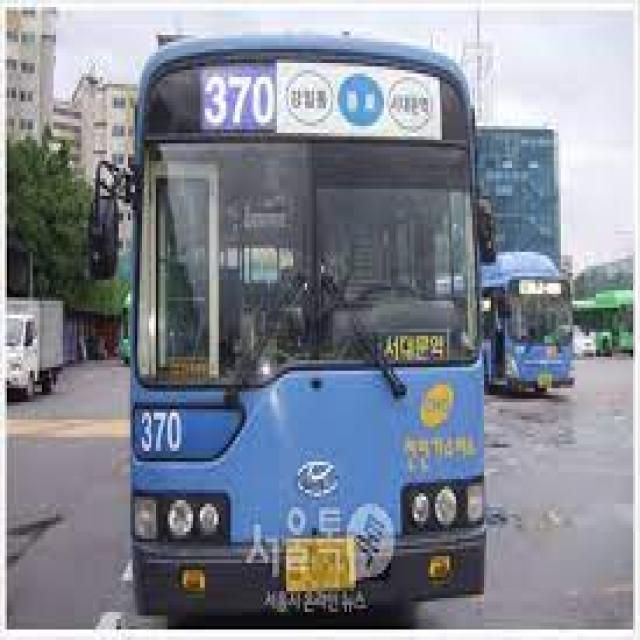bus-number: (202, 71, 276, 129)
